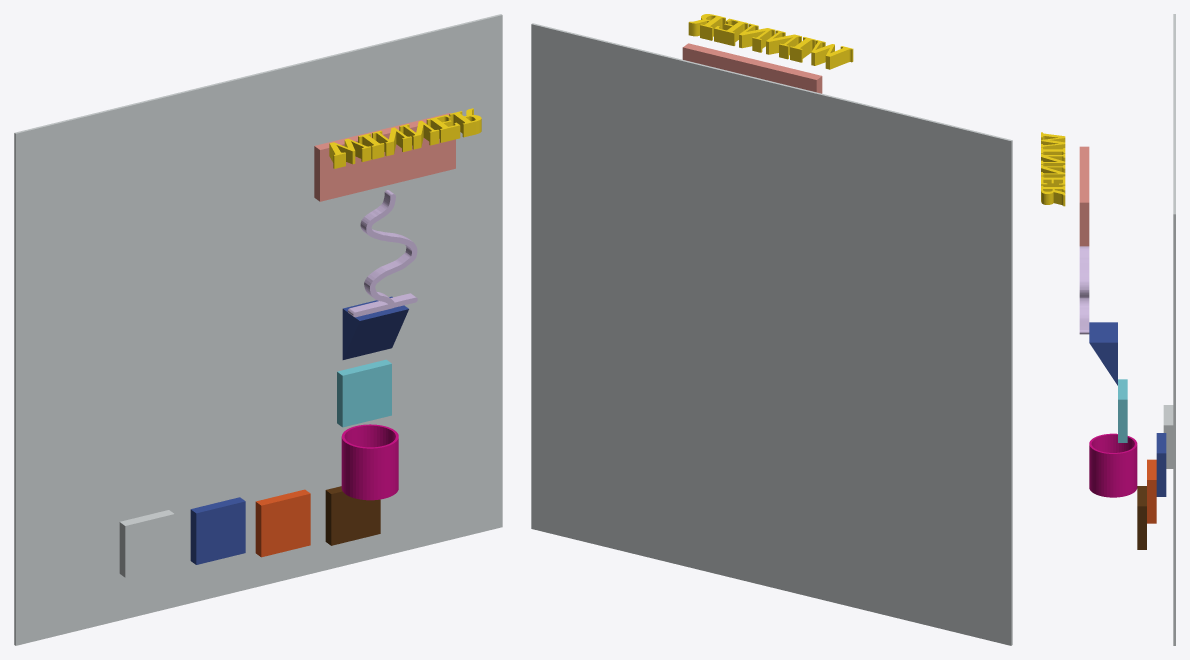
File: tinker.obj
3 renders of one model, left to right at view 1: azimuth 30°, elevation 25°; view 2: azimuth 150°, elevation 25°; view 3: azimuth 270°, elevation 25°, orthographic. The views are drawn at different scales.
Parts seen in each view (by area): view 1: obj_0, obj_9, obj_5, obj_10, obj_2, obj_4, obj_3, obj_1, obj_8, obj_7, obj_6; view 2: obj_0, obj_10, obj_9; view 3: obj_5, obj_0, obj_10, obj_7, obj_9, obj_8, obj_3, obj_4, obj_1, obj_6, obj_2.
Part boxes in pixels (x1,y1,x2,y2): obj_0: (14, 14, 502, 645); obj_9: (314, 113, 455, 201); obj_5: (341, 424, 398, 500); obj_10: (329, 108, 481, 168); obj_2: (119, 510, 174, 577); obj_4: (255, 489, 310, 557); obj_3: (190, 497, 245, 564); obj_1: (337, 359, 391, 427); obj_8: (347, 190, 417, 317); obj_7: (342, 296, 408, 359); obj_6: (325, 486, 380, 545); obj_0: (531, 23, 1012, 645); obj_10: (688, 14, 853, 69); obj_9: (682, 43, 822, 93); obj_5: (1089, 433, 1137, 497); obj_0: (1173, 14, 1175, 645); obj_10: (1041, 132, 1065, 206); obj_7: (1089, 322, 1117, 385); obj_9: (1079, 146, 1089, 246); obj_8: (1079, 246, 1089, 334); obj_3: (1156, 433, 1166, 496); obj_4: (1147, 459, 1156, 523); obj_1: (1118, 379, 1127, 442); obj_6: (1137, 486, 1146, 549); obj_2: (1163, 405, 1173, 468).
Size of the model in its own units: 197 by 198 by 56.
